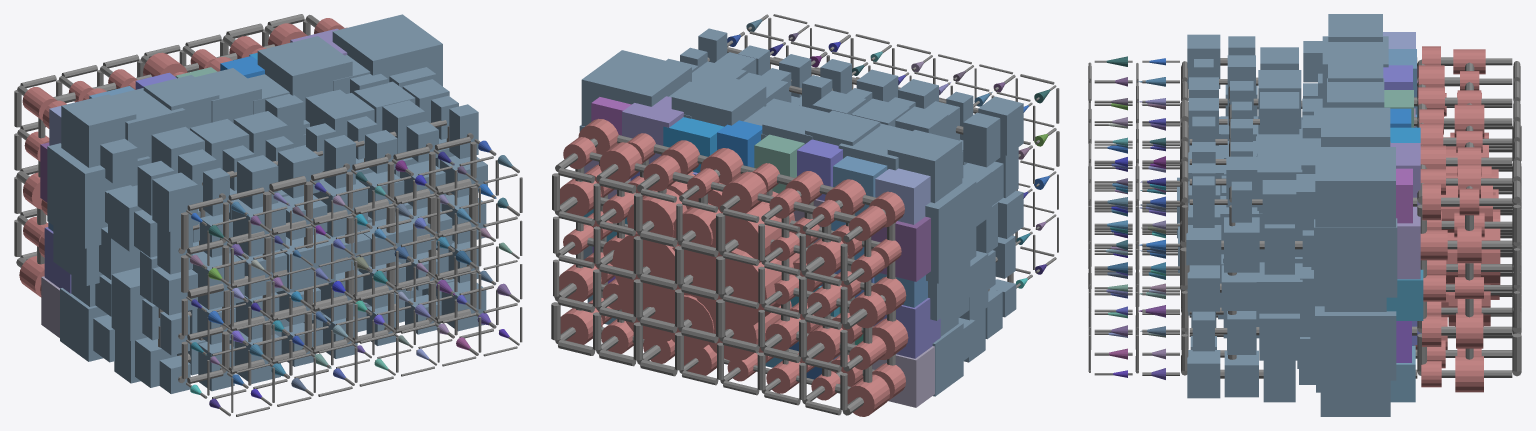
File: cruiser_spaceship.glb
3 views of the same model, side by side, from view 1: azimuth 30°, elevation 25°; view 2: azimuth 150°, elevation 25°; view 3: azimuth 270°, elevation 25° (orthographic).
Visible parts, largest first — view 1: world; view 2: world; view 3: world.
Part boxes in pixels (x1=…): world: x1=14, y1=14, x2=522, y2=416; world: x1=551, y1=14, x2=1059, y2=416; world: x1=1088, y1=14, x2=1521, y2=416.
Bounding box in the file's own units: 13.01 × 8.62 × 13.7.
